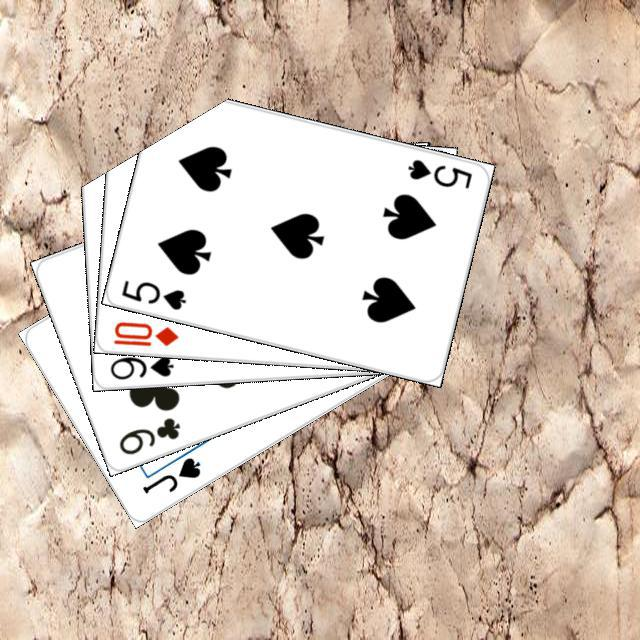10d: (108, 317, 180, 348)
5s: (116, 275, 188, 312), (403, 154, 474, 191)
9c: (114, 412, 182, 457)
9s: (105, 351, 175, 382)
Js: (137, 452, 203, 496)
